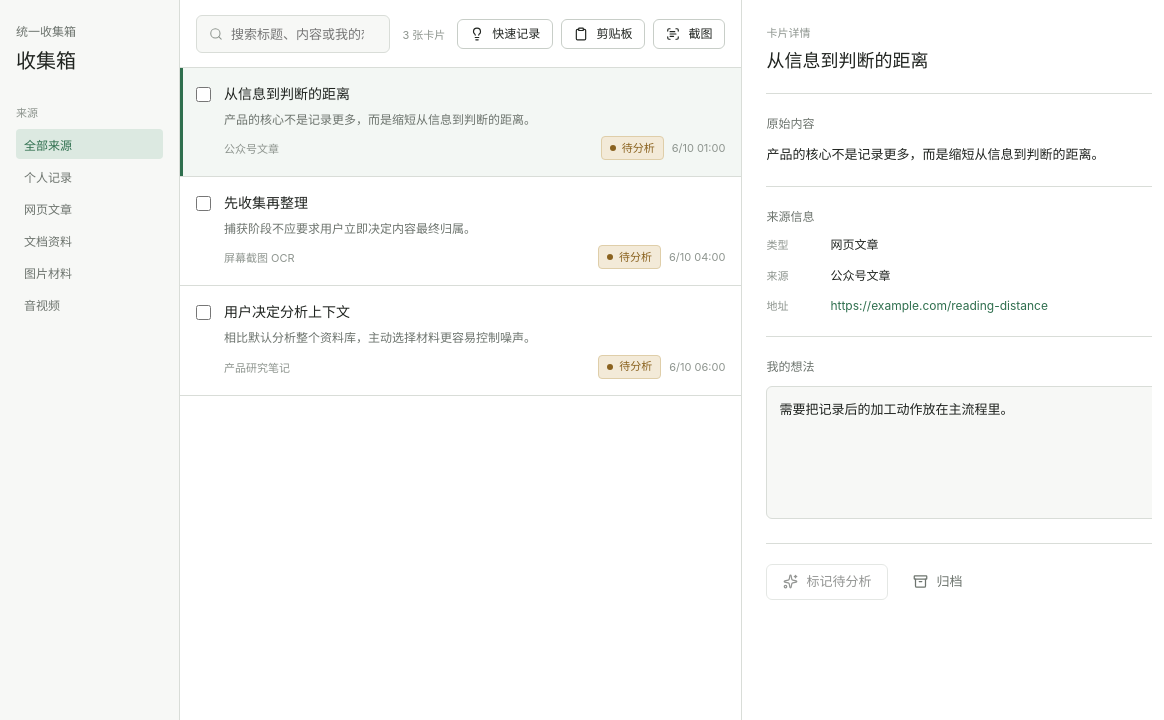
InboxPage › archives a card, clears the detail, and removes it from a status-filtered list
The width and height of the screenshot is (1164, 720).
Click the button "归档". click: (938, 582)
box: [896,564,979,600]
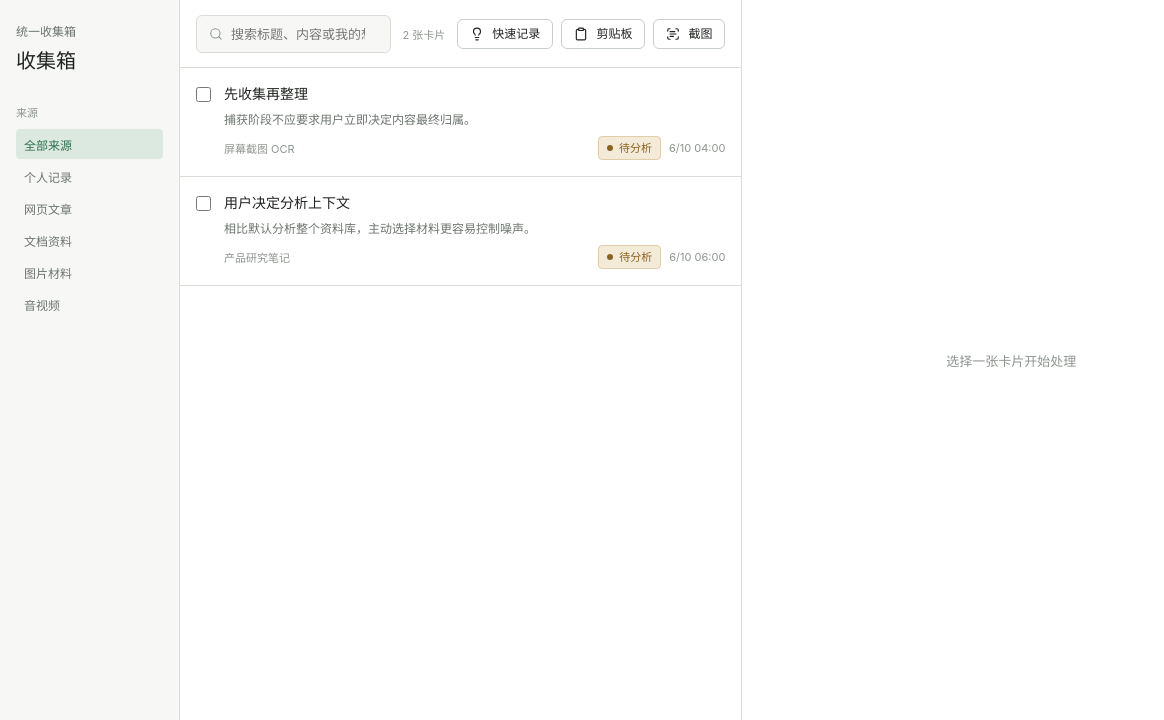
Expected: the text "先收集再整理" is shown, [224,85,308,102]
Expected: the text "选择一张卡片开始处理" is shown, [946,350,1076,370]
Expected: the button "从信息到判断的距离" is gone
